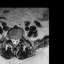CCS_normal: (14, 36, 16, 47)
LFS_normal: (18, 35, 21, 44)
LLS_normal: (16, 36, 18, 45)
RFS_normal: (9, 34, 11, 43)
RLS_normal: (11, 36, 14, 46)
